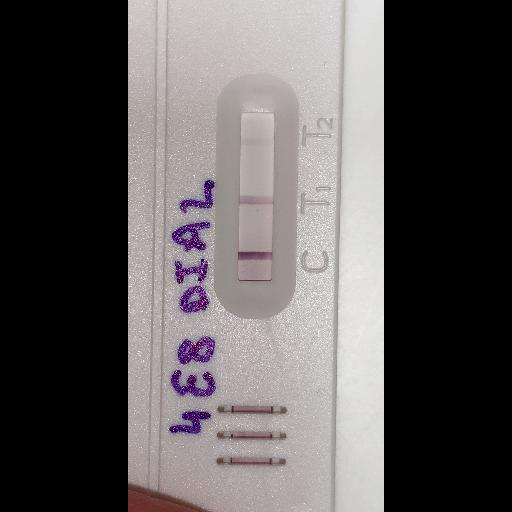Pos: (127, 0, 341, 511)
